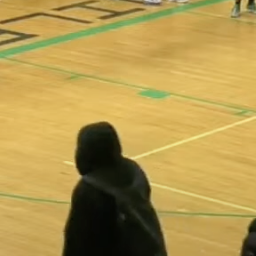block: (137, 88, 170, 99)
